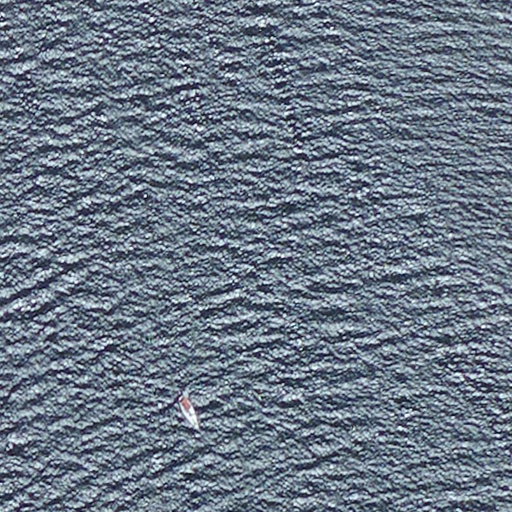ship: (174, 391, 201, 434)
